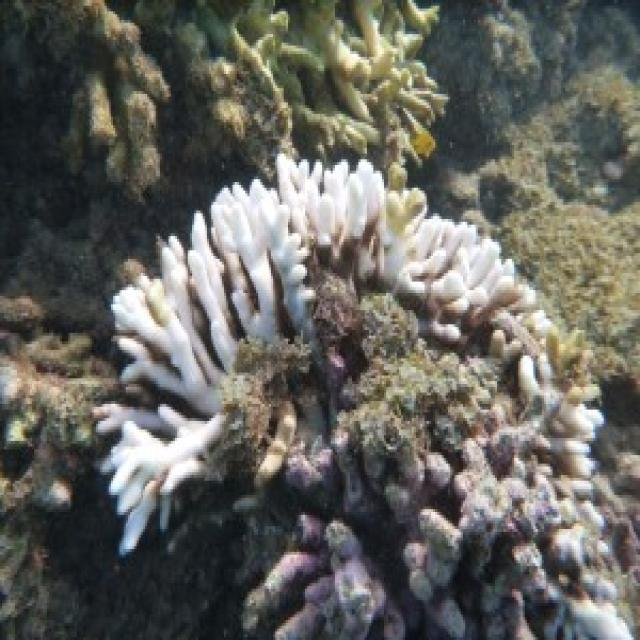Bleached Coral: (45, 158, 312, 491), (301, 108, 539, 362)
